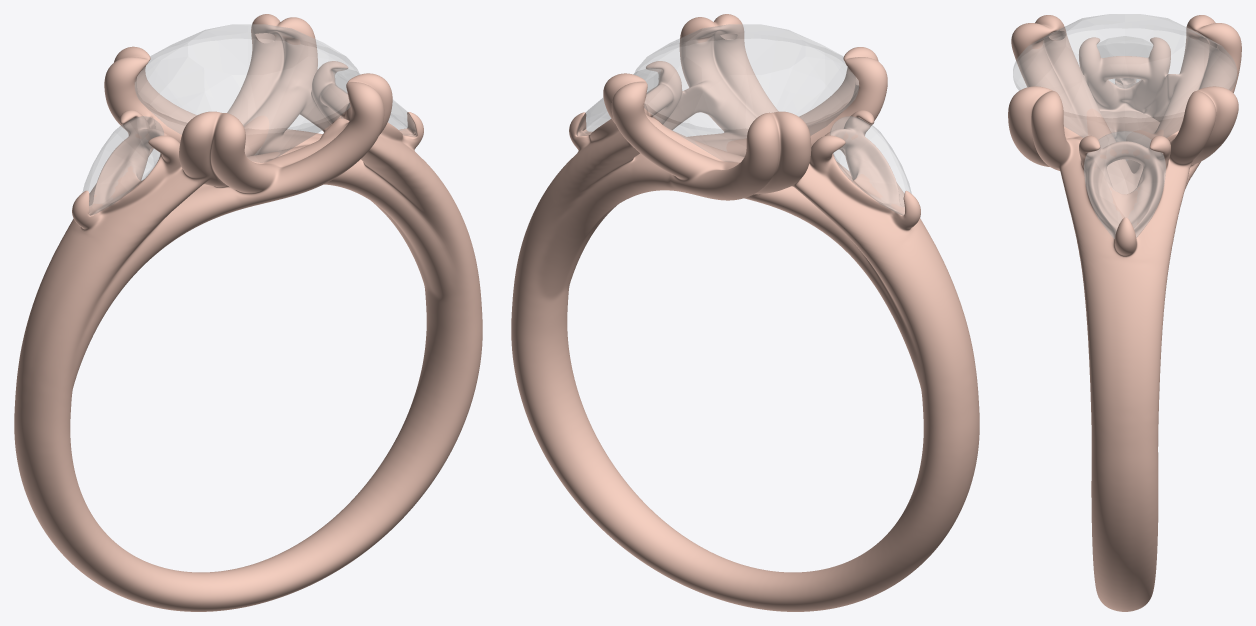
File: myfav.glb
The picture shows the model from 3 angles, left to right: view 1: azimuth 30°, elevation 25°; view 2: azimuth 150°, elevation 25°; view 3: azimuth 270°, elevation 25°; orthographic projection.
Visible parts, largest first — view 1: Ring, Diamond (×3); view 2: Ring, Diamond (×3); view 3: Ring, Diamond (×3).
Part boxes in pixels (<box>): Ring: <box>14,14,482,611</box>; Diamond (×3): <box>82,24,416,215</box>; Ring: <box>511,14,979,611</box>; Diamond (×3): <box>577,24,911,215</box>; Ring: <box>1008,15,1241,611</box>; Diamond (×3): <box>1013,14,1236,238</box>.
Size of the model in its own units: 21.64 by 25.03 by 9.7.
